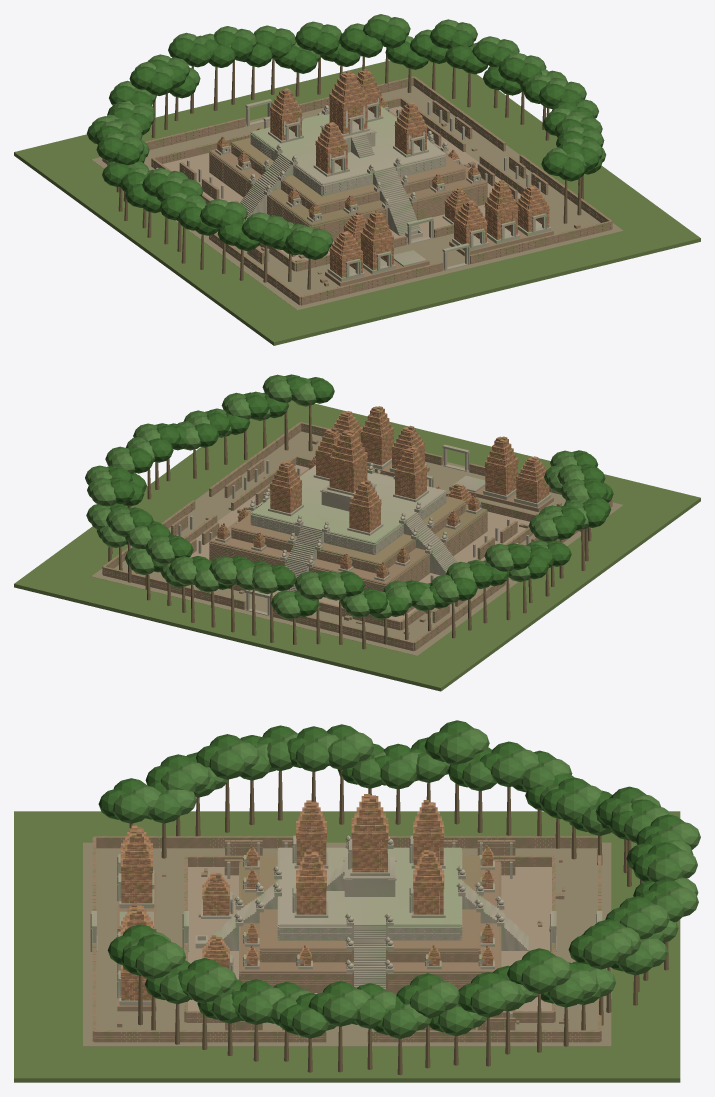
Rendered from pre-rup-ultra.glb.
3 views of the same model, one above another, from view 1: azimuth 30°, elevation 25°; view 2: azimuth 150°, elevation 25°; view 3: azimuth 270°, elevation 25° (orthographic). The views are drawn at different scales.
Visible parts, largest first — view 1: Peripheral grass, Broadleaf canopy 0, Laterite terraces, Sandstone mouldings, Dry earth, Weathered brick 0, Weathered brick 1, Weathered brick 2, Broadleaf canopy 1, Tree trunks, Broadleaf canopy 2, Paved courtyards; view 2: Peripheral grass, Laterite terraces, Broadleaf canopy 0, Broadleaf canopy 2, Sandstone mouldings, Dry earth, Weathered brick 1, Weathered brick 0, Weathered brick 2, Broadleaf canopy 1, Tree trunks, Paved courtyards; view 3: Peripheral grass, Broadleaf canopy 1, Laterite terraces, Sandstone mouldings, Broadleaf canopy 0, Dry earth, Broadleaf canopy 2, Weathered brick 0, Weathered brick 1, Weathered brick 2, Tree trunks, Paved courtyards.
Part boxes in pixels (x1,y1,x2,y2): Peripheral grass: [14, 60, 700, 345]; Broadleaf canopy 0: [86, 19, 602, 259]; Laterite terraces: [102, 76, 612, 305]; Sandstone mouldings: [156, 99, 551, 281]; Dry earth: [91, 86, 623, 310]; Weathered brick 0: [216, 70, 549, 275]; Weathered brick 1: [217, 70, 549, 277]; Weathered brick 2: [217, 68, 549, 276]; Broadleaf canopy 1: [114, 17, 606, 247]; Tree trunks: [116, 47, 583, 289]; Broadleaf canopy 2: [92, 14, 584, 233]; Paved courtyards: [162, 106, 521, 260]; Peripheral grass: [14, 400, 700, 691]; Laterite terraces: [102, 422, 612, 651]; Broadleaf canopy 0: [107, 374, 613, 616]; Broadleaf canopy 2: [88, 379, 589, 619]; Sandstone mouldings: [178, 444, 551, 620]; Dry earth: [91, 431, 623, 655]; Weathered brick 1: [217, 406, 549, 577]; Weathered brick 0: [216, 406, 549, 578]; Weathered brick 2: [217, 407, 549, 576]; Broadleaf canopy 1: [85, 374, 585, 610]; Tree trunks: [108, 405, 591, 649]; Paved courtyards: [190, 465, 529, 620]; Peripheral grass: [14, 811, 680, 1082]; Broadleaf canopy 1: [113, 734, 685, 1038]; Laterite terraces: [92, 836, 601, 1042]; Sandstone mouldings: [90, 835, 602, 1025]; Broadleaf canopy 0: [98, 720, 683, 1034]; Dry earth: [83, 842, 611, 1046]; Broadleaf canopy 2: [132, 727, 700, 1030]; Weathered brick 0: [120, 794, 493, 1000]; Weathered brick 1: [121, 795, 493, 1000]; Weathered brick 2: [121, 796, 493, 1000]; Tree trunks: [129, 770, 668, 1075]; Paved courtyards: [188, 866, 551, 1021].
Size of the model in its own units: 57.98 by 14.66 by 59.81.
